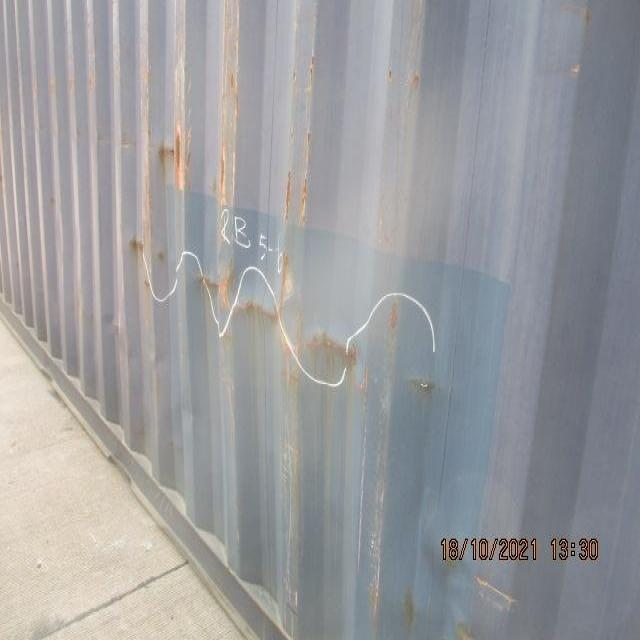dent: (117, 238, 440, 405)
